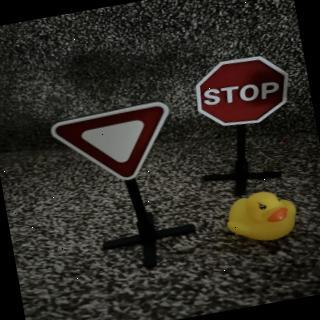duck_regular: (224, 187, 303, 250)
sign_stop: (192, 52, 297, 135)
sign_yield: (50, 101, 182, 194)
